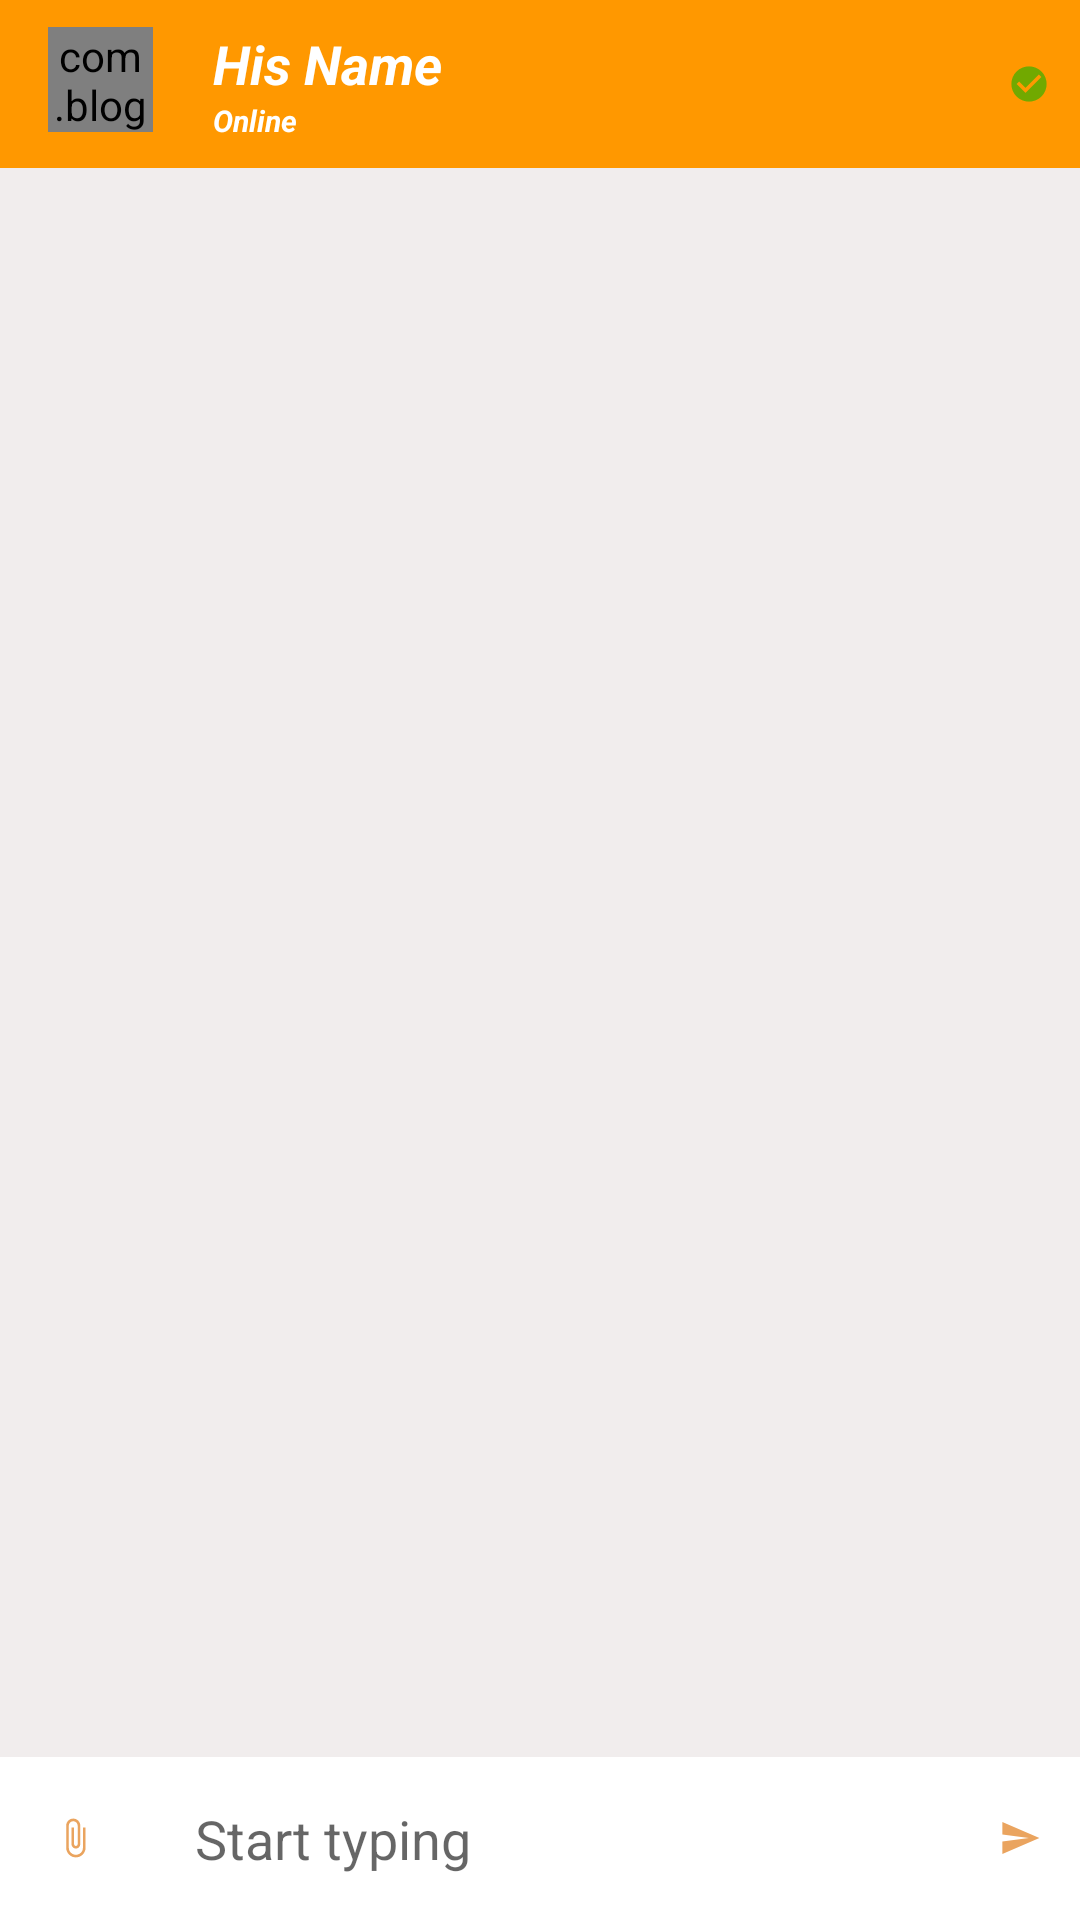

Screen size 1080×1920. Icon name, then its box in pixels as (x1, y1, x2, y2):
attach: (66, 1818, 86, 1858)
send: (1002, 1822, 1039, 1854)
unblocked: (1011, 66, 1047, 102)
